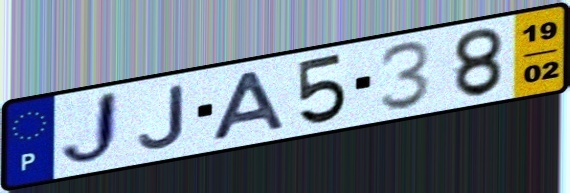3: (377, 39, 434, 113)
5: (295, 51, 349, 126)
8: (451, 25, 506, 99)
A: (207, 68, 289, 144)
J: (55, 88, 122, 170), (134, 82, 188, 152)
